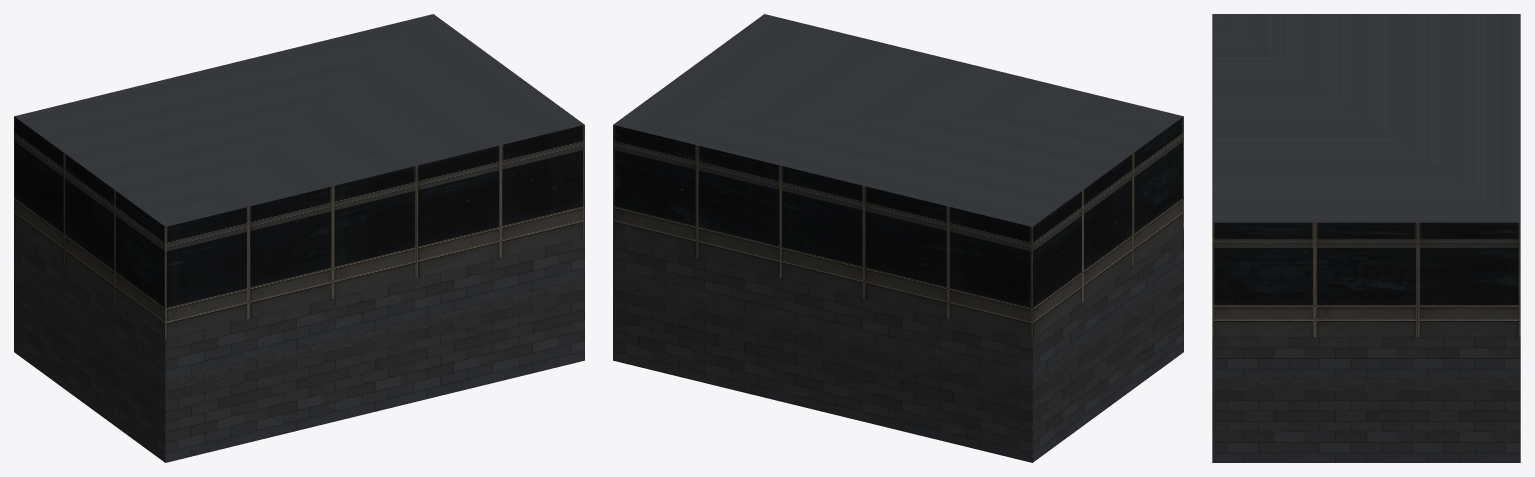
Rendered from cafeteria.glb.
3 views of the same model, side by side, from view 1: azimuth 30°, elevation 25°; view 2: azimuth 150°, elevation 25°; view 3: azimuth 270°, elevation 25° (orthographic).
Parts seen in each view (by area): view 1: crown, ground, body; view 2: crown, ground, body; view 3: crown, ground, body.
Part boxes in pixels (left/top/right/bottom): crown: left=14, top=14, right=584, bottom=251; ground: left=14, top=229, right=584, bottom=462; body: left=14, top=141, right=584, bottom=339; crown: left=613, top=14, right=1183, bottom=251; ground: left=613, top=229, right=1183, bottom=462; body: left=613, top=141, right=1183, bottom=339; crown: left=1212, top=14, right=1520, bottom=247; ground: left=1212, top=337, right=1520, bottom=462; body: left=1212, top=247, right=1520, bottom=337.
Bounding box in the file's own units: 16 × 8.6 × 10.
3 materials, 3 textured.
